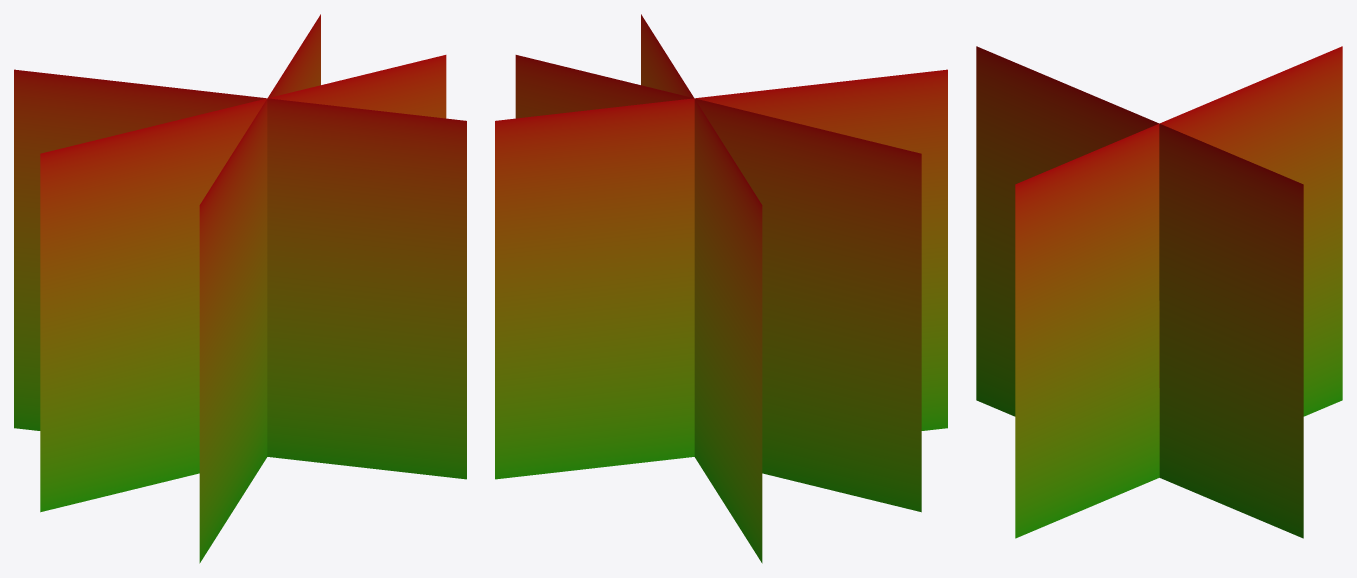
File: grama2.fbx
The picture shows the model from 3 angles, left to right: view 1: azimuth 30°, elevation 25°; view 2: azimuth 150°, elevation 25°; view 3: azimuth 270°, elevation 25°; orthographic projection.
Parts seen in each view (by area): view 1: _6980_Var2_LOD3; view 2: _6980_Var2_LOD3; view 3: _6980_Var2_LOD3.
Boxes of the visible parts, x1,y1,x2,y2 form: _6980_Var2_LOD3: (14, 14, 466, 563); _6980_Var2_LOD3: (495, 14, 947, 563); _6980_Var2_LOD3: (976, 46, 1342, 538).
Bounding box in the file's own units: 53.57 × 45.19 × 42.39.
